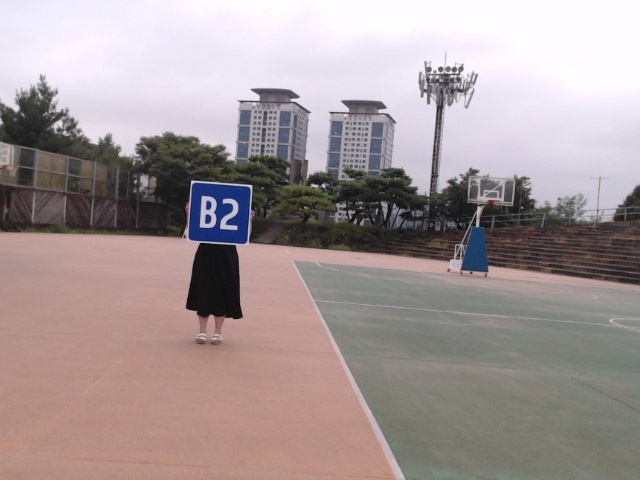delivery_b2: (188, 181, 251, 245)
